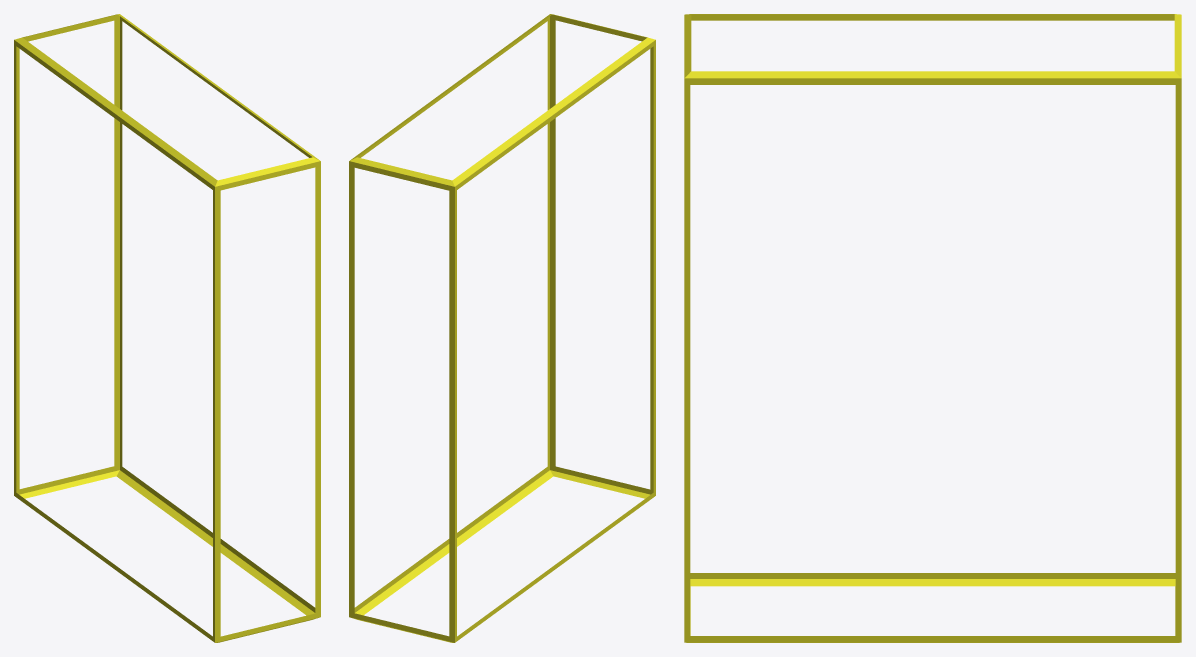
Rendered from 0508light_for_files.fbx.
3 views of the same model, side by side, from view 1: azimuth 30°, elevation 25°; view 2: azimuth 150°, elevation 25°; view 3: azimuth 270°, elevation 25° (orthographic). The views are drawn at different scales.
Visible parts, largest first — view 1: Cube; view 2: Cube; view 3: Cube.
Boxes of the visible parts, x1=… form: Cube: x1=14, y1=14, x2=320, y2=642; Cube: x1=349, y1=14, x2=655, y2=642; Cube: x1=684, y1=14, x2=1181, y2=642.
Bounding box in the file's own units: 7.8 × 32.57 × 25.66.
